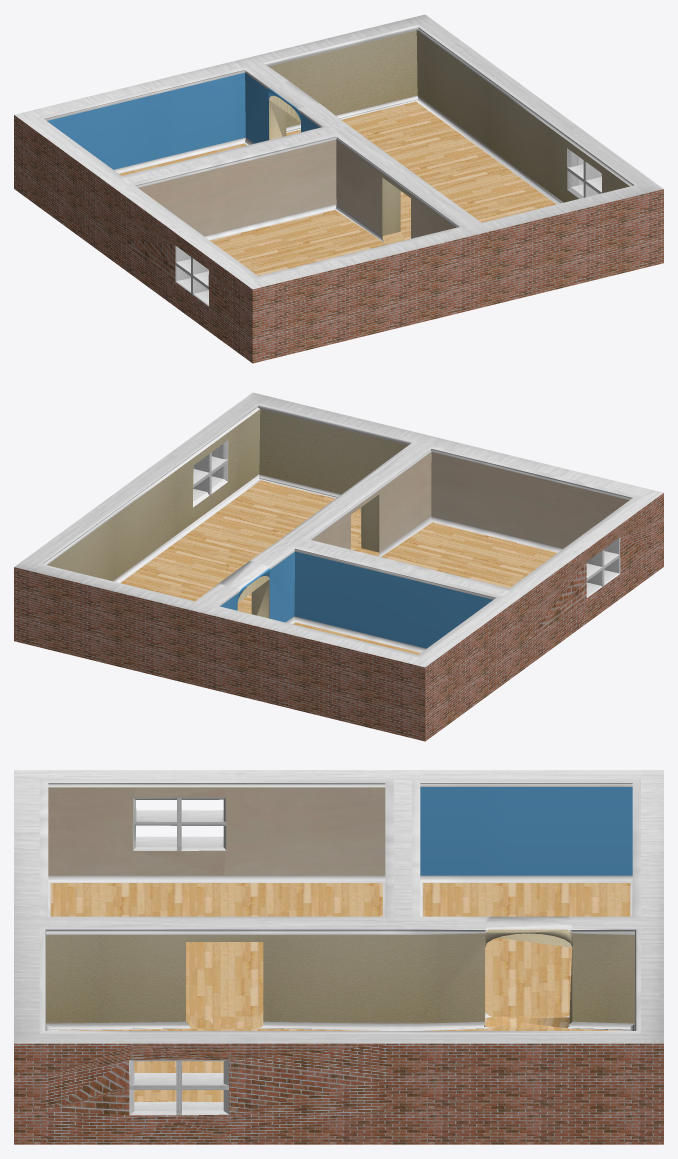
The model's file is House.fbx.
3 views of the same model, one above another, from view 1: azimuth 30°, elevation 25°; view 2: azimuth 150°, elevation 25°; view 3: azimuth 270°, elevation 25° (orthographic). The views are drawn at different scales.
Parts seen in each view (by area): view 1: HouseWalls3; view 2: HouseWalls3; view 3: HouseWalls3.
Part boxes in pixels (x1,y1,x2,y2): HouseWalls3: (14, 14, 663, 363); HouseWalls3: (14, 392, 663, 741); HouseWalls3: (14, 770, 663, 1144).
Size of the model in its own units: 46.52 by 8.04 by 46.75.
Materials: 7 (6 with a texture image).
